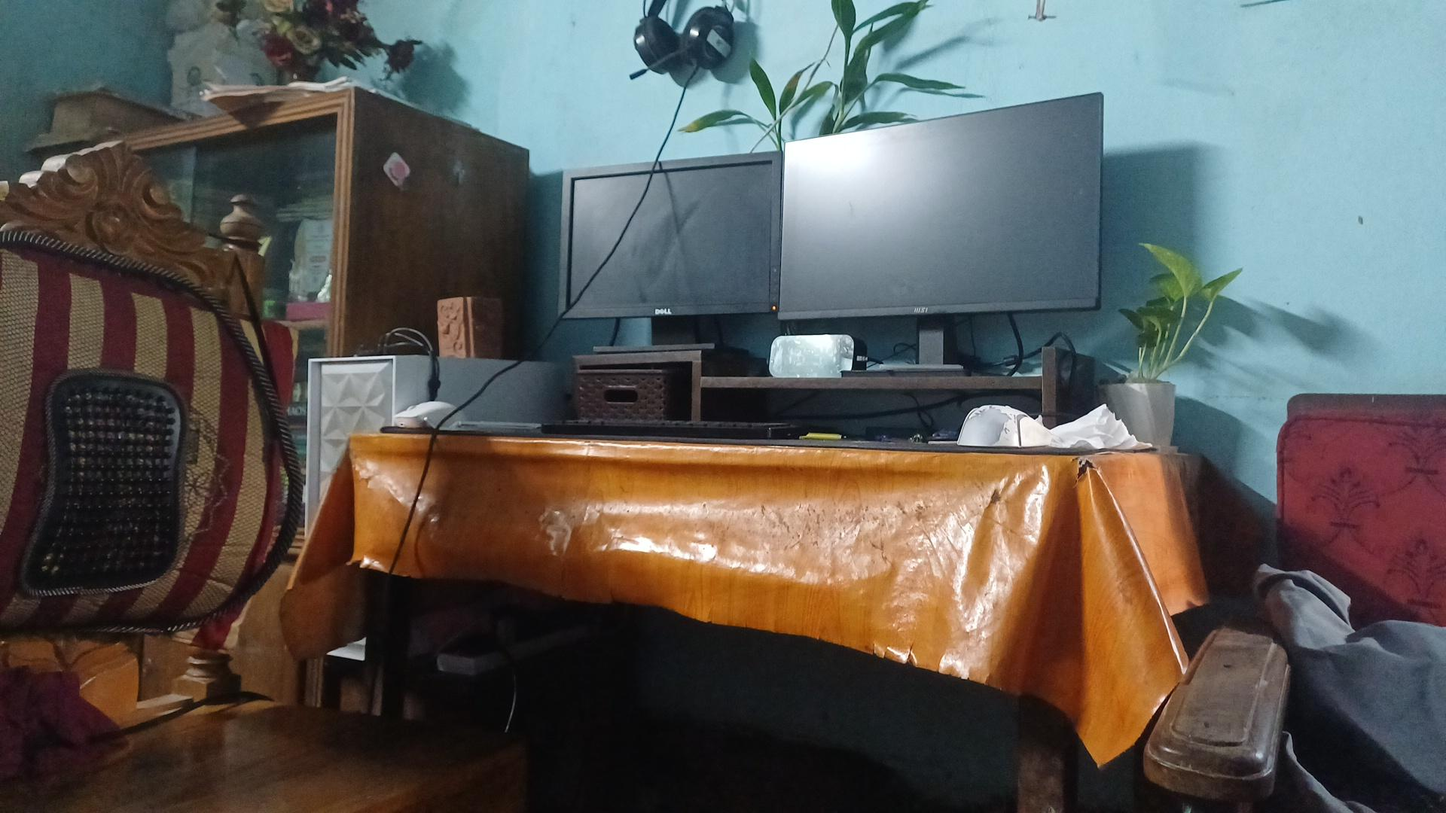Chair: (0, 105, 372, 721)
Clock: (745, 323, 860, 386)
Monitor: (771, 92, 1127, 331), (542, 141, 783, 323)
Mouse: (390, 378, 483, 443), (964, 394, 1053, 461)
Pen Stand: (420, 278, 508, 349)
Plant: (1117, 231, 1221, 467)
